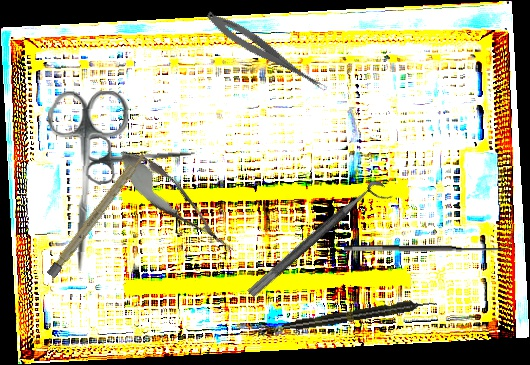Fixation Ring: (246, 176, 394, 310)
Handpiece: (281, 296, 438, 334)
Hook Surgical: (343, 231, 512, 256)
Iris Scissors: (42, 88, 131, 273), (82, 126, 197, 186)
Micro Scissor: (107, 139, 245, 265), (202, 7, 332, 96)
Scalpel Handle: (46, 149, 148, 279)
